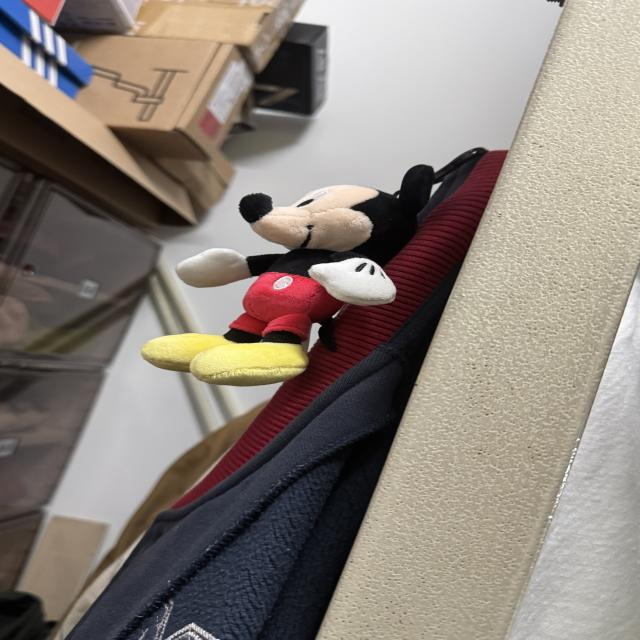mickey: (143, 166, 433, 385)
